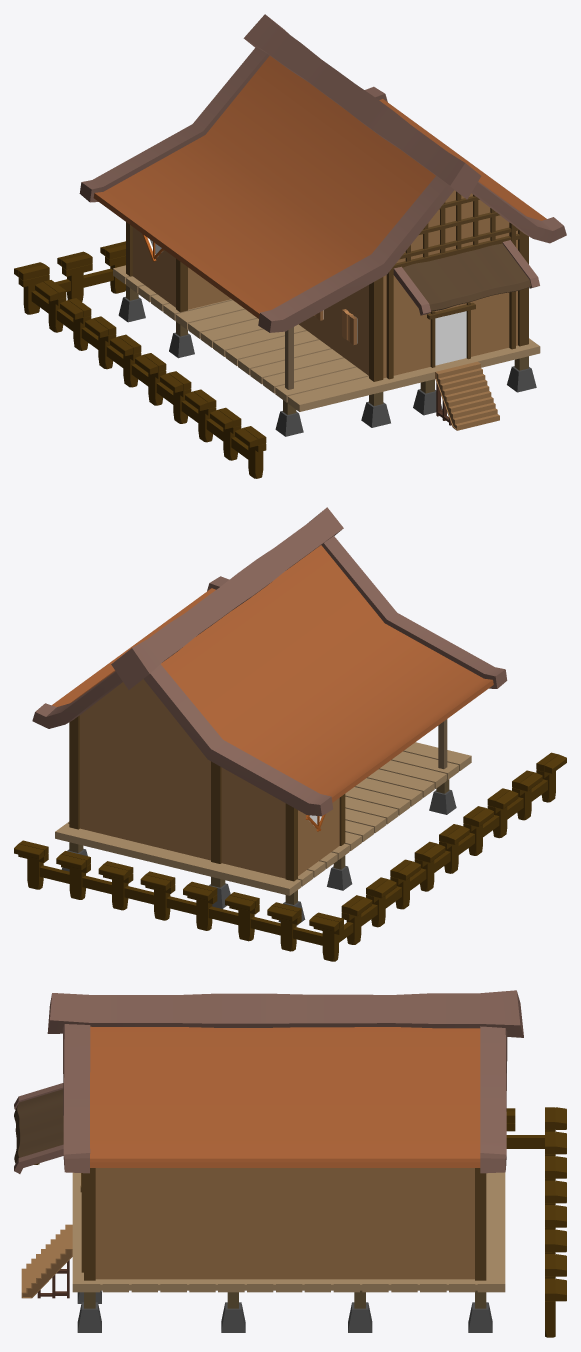
File: 3d_baduy.glb
3 views of the same model, one above another, from view 1: azimuth 30°, elevation 25°; view 2: azimuth 150°, elevation 25°; view 3: azimuth 270°, elevation 25° (orthographic). The views are drawn at different scales.
Visible parts, largest first — view 1: Cube.127_4, Cube.135_23, Cube.137_13, Cube.122_0, Cube.154_32, Cube.138_14, Cube.129_7, Cube.155_33, Cube.152_30, Cube.125_2, Cube.148_26, Cube.126_3 (+8 smaller); view 2: Cube.127_4, Cube.122_0, Cube.137_13, Cube.135_23, Cube.155_33, Cube.154_32, Cube.138_14, Cube.126_3, Cube.130_6, Cube.123_1, Cube.156_34, Cube.147_25 (+2 smaller); view 3: Cube.127_4, Cube.122_0, Cube.138_14, Cube.135_23, Cube.137_13, Cube.155_33, Cube.129_7, Cube.149_27, Cube.152_30, Cube.125_2, Cube.130_6, Cube.148_26 (+3 smaller).
Part boxes in pixels (x1,y1,x2,y2): Cube.127_4: (93, 56, 546, 318); Cube.135_23: (113, 265, 540, 411); Cube.137_13: (79, 47, 566, 332); Cube.122_0: (132, 227, 517, 378); Cube.154_32: (31, 280, 266, 478); Cube.138_14: (243, 14, 481, 199); Cube.129_7: (402, 243, 531, 311); Cube.155_33: (14, 241, 125, 314); Cube.152_30: (435, 361, 499, 430); Cube.125_2: (369, 230, 528, 381); Cube.148_26: (361, 356, 536, 427); Cube.126_3: (396, 190, 517, 263); Cube.127_4: (52, 545, 493, 802); Cube.122_0: (80, 722, 339, 878); Cube.137_13: (32, 536, 507, 816); Cube.135_23: (55, 742, 471, 895); Cube.155_33: (39, 851, 343, 961); Cube.154_32: (339, 752, 566, 944); Cube.138_14: (111, 507, 343, 689); Cube.126_3: (80, 679, 201, 752); Cube.130_6: (69, 715, 221, 863); Cube.123_1: (285, 794, 345, 881); Cube.156_34: (14, 840, 48, 889); Cube.147_25: (278, 855, 352, 925); Cube.127_4: (90, 1026, 480, 1167); Cube.122_0: (95, 1168, 474, 1279); Cube.138_14: (47, 990, 523, 1037); Cube.135_23: (72, 1172, 505, 1292); Cube.137_13: (62, 1024, 507, 1173); Cube.155_33: (545, 1107, 566, 1278); Cube.129_7: (14, 1089, 63, 1163); Cube.149_27: (221, 1290, 492, 1332); Cube.152_30: (21, 1224, 72, 1298); Cube.125_2: (84, 1168, 95, 1280); Cube.130_6: (475, 1168, 486, 1280); Cube.148_26: (77, 1290, 101, 1332).
Size of the model in its own units: 1.87 by 1.34 by 2.28.
